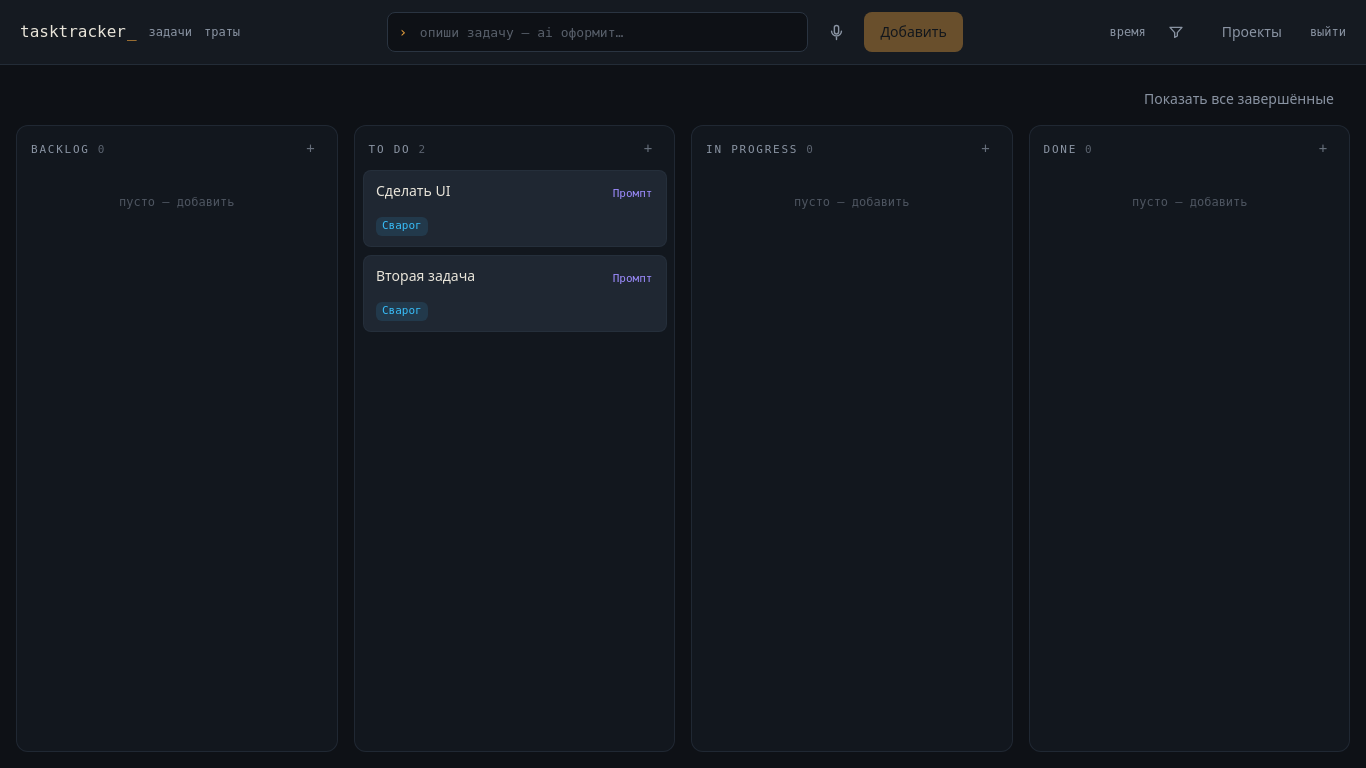
Test: Промпт для кодового агента › поздний ответ закрытой задачи не подменяет промпт другой задачи
Click the button with aria-label "Промпт для задачи «Сделать UI»". click: (632, 194)
box: [604, 176, 660, 212]
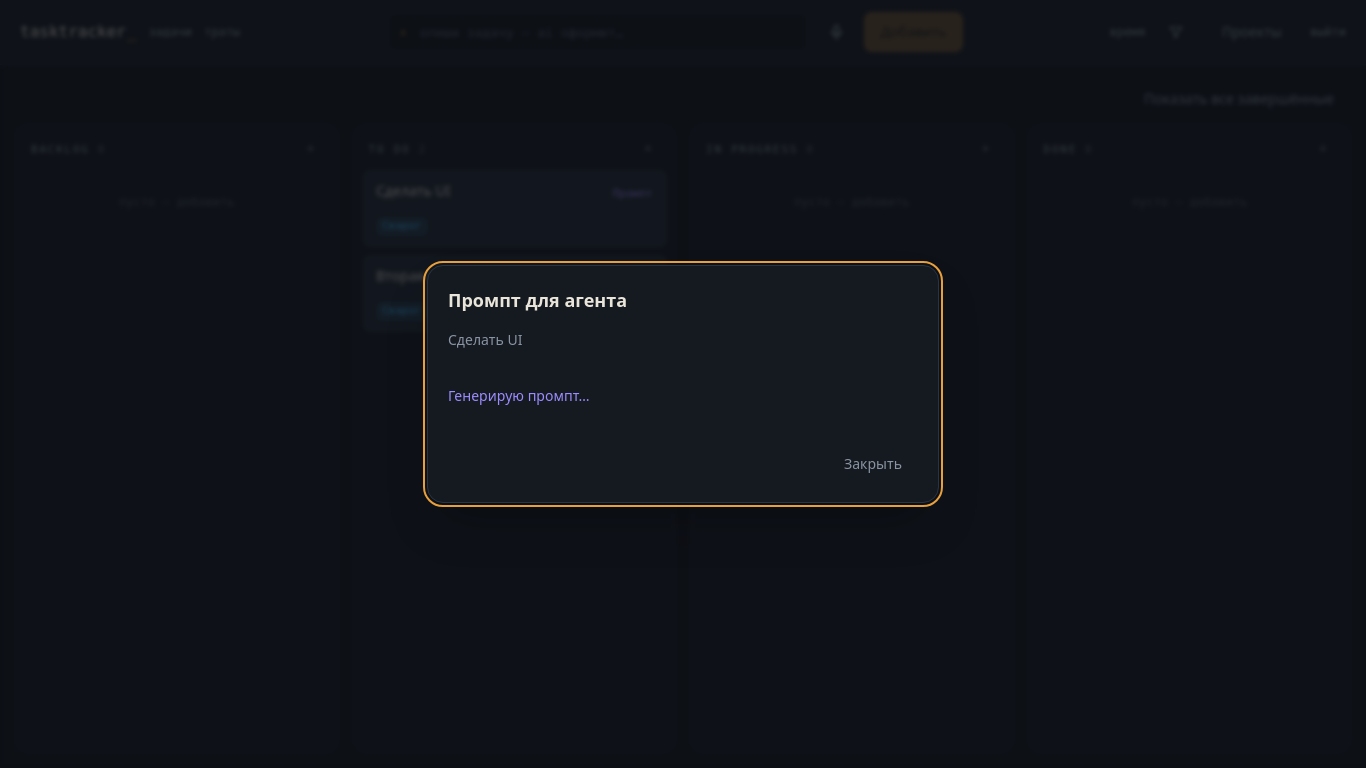
Check: the message "Генерирую промпт…" is shown, box [448, 386, 590, 405]
Click the button "Закрыть". click: (873, 464)
box: [828, 446, 918, 482]
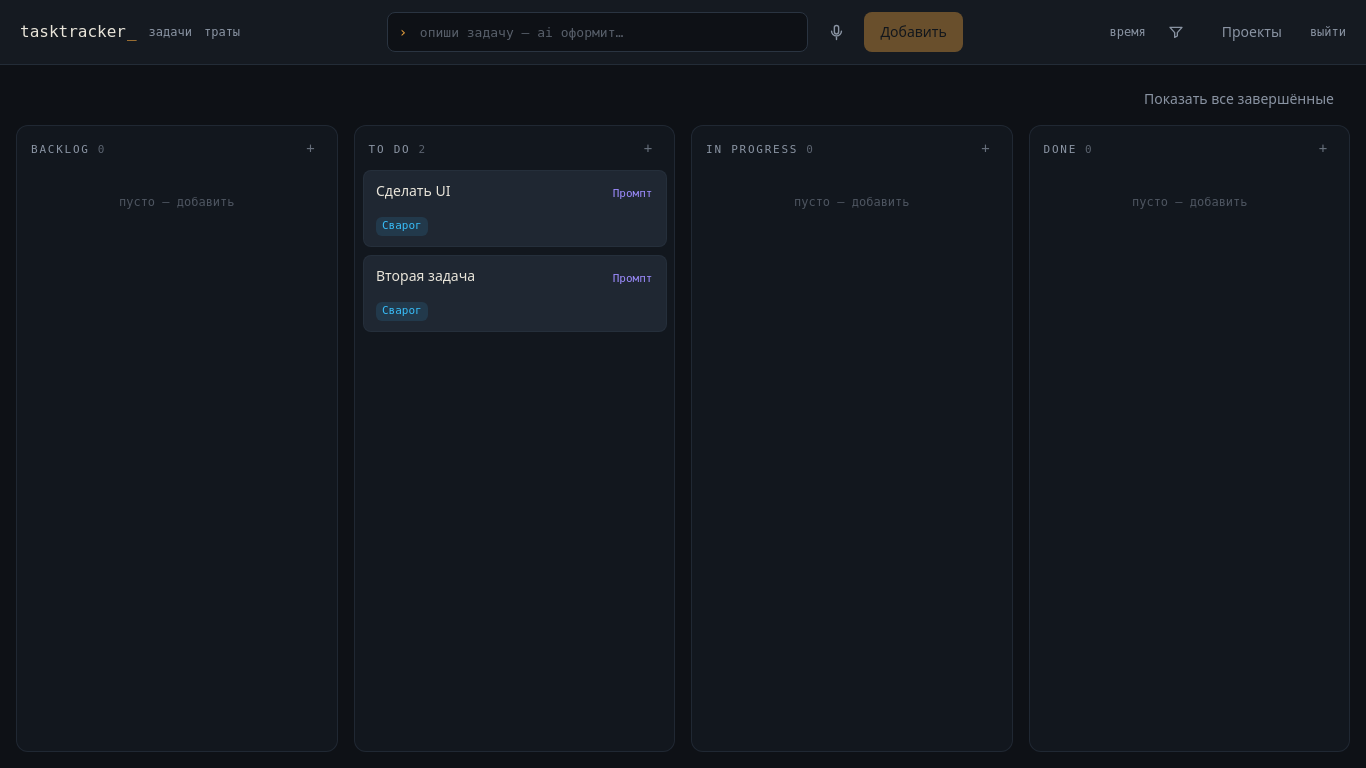
Click the button with aria-label "Промпт для задачи «Вторая задача»". click: (632, 278)
box: [604, 260, 660, 296]
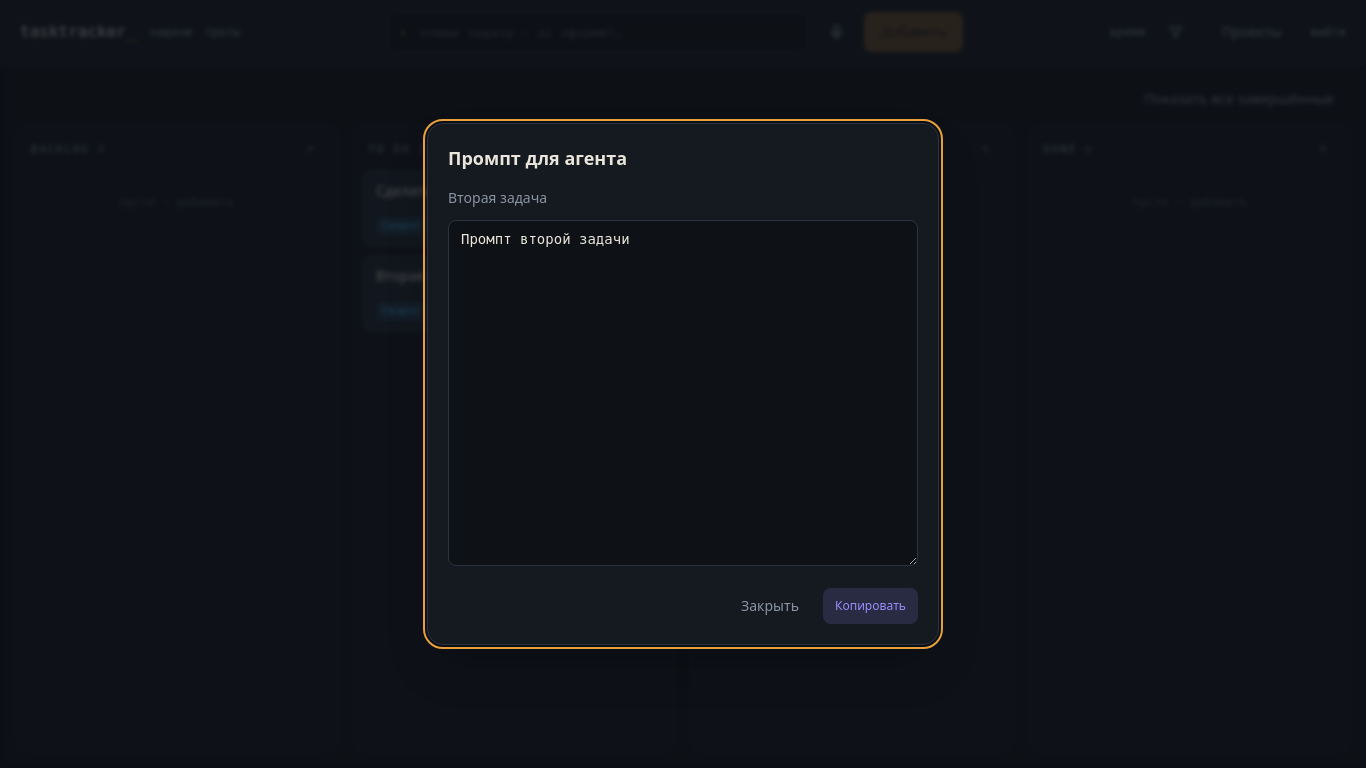
Check: the text box showing "Промпт второй задачи" is shown, box [448, 220, 918, 566]
